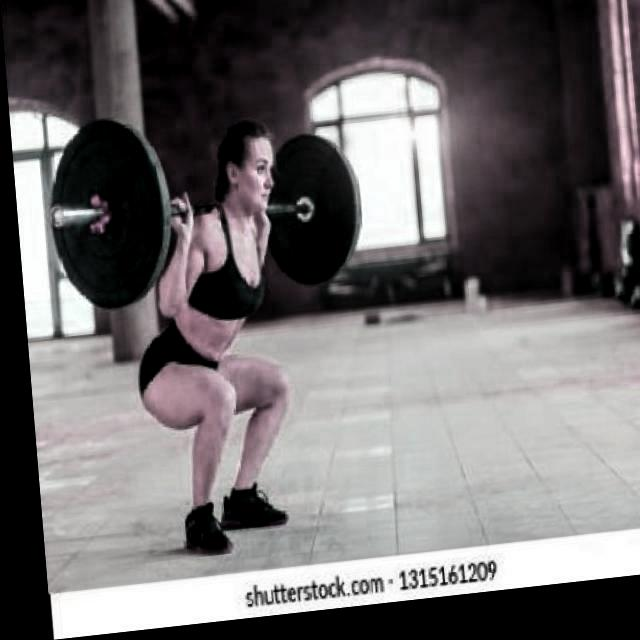barbell: (35, 113, 172, 317)
